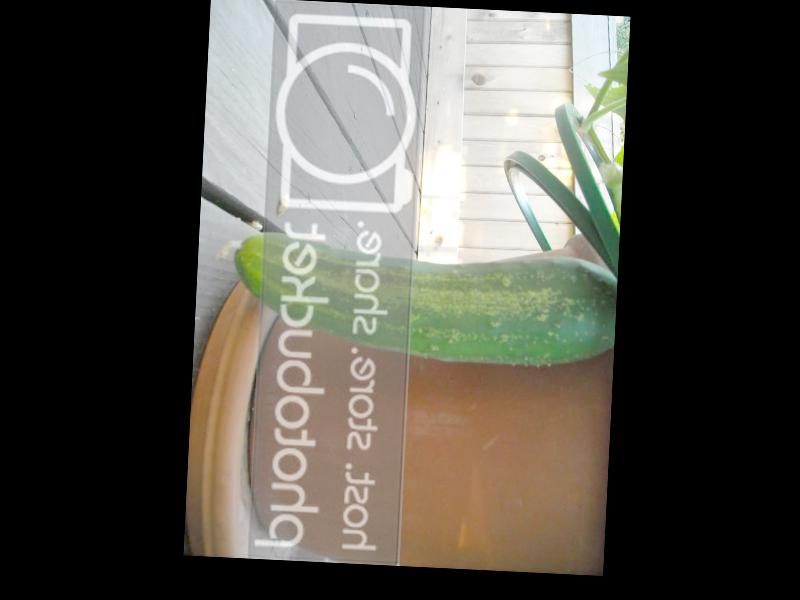Cucumber: (212, 229, 614, 369)
